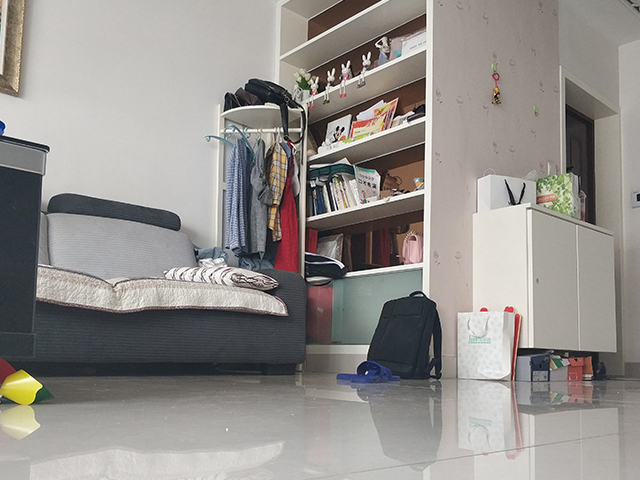cabinet: (471, 203, 620, 350)
slippers: (335, 360, 402, 384)
sofa: (34, 190, 311, 377)
table: (1, 133, 51, 373)
